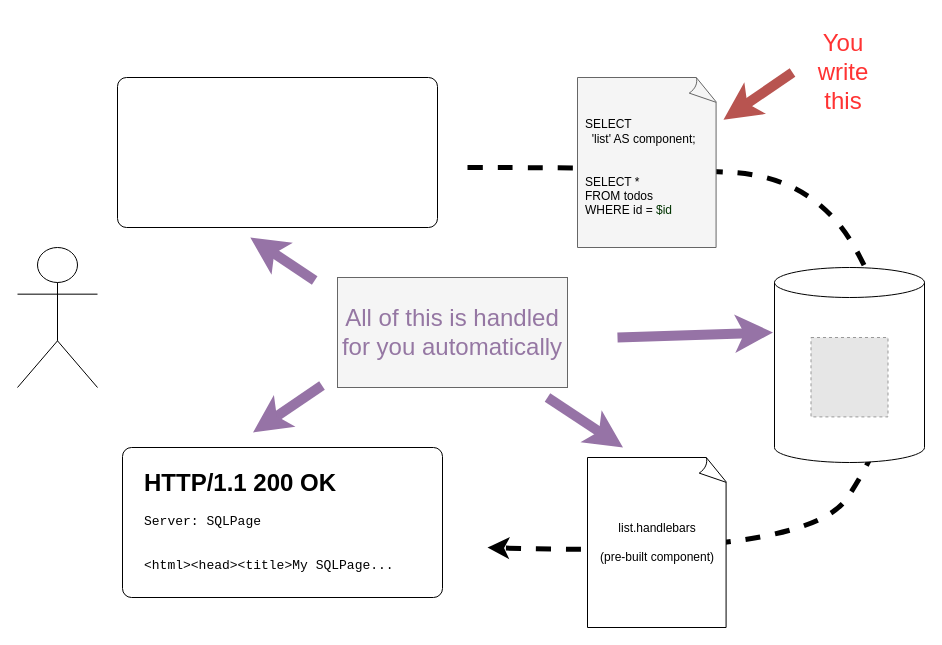
The diagram is 942 pixels wide and 645 high, and some of its shapes have lost their labels. Grey dashed boxes stand in for pictures. The shapes that lost their labels are listed below. From the top down, each one's centre as x and y in pixels, then its label:
At point 277,152: "GET /todo.sql? id=1 Host: example.com Cookie : name=value".
At point 57,317: "Website User".
